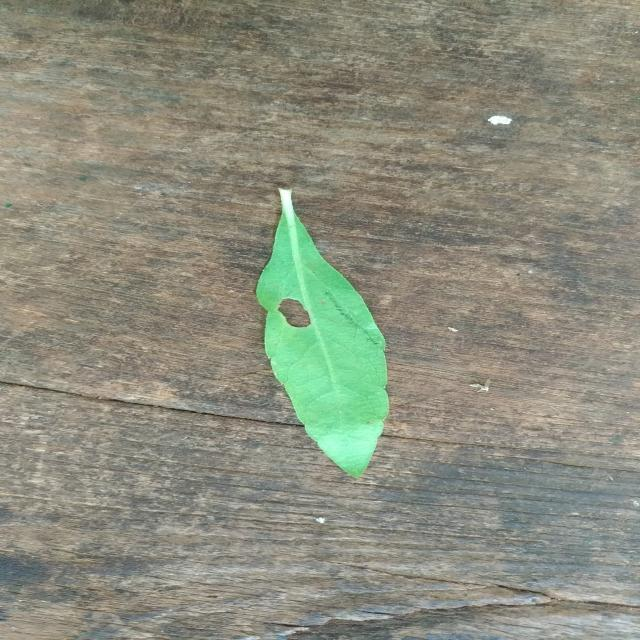defectedbringaraja: (256, 189, 389, 476)
